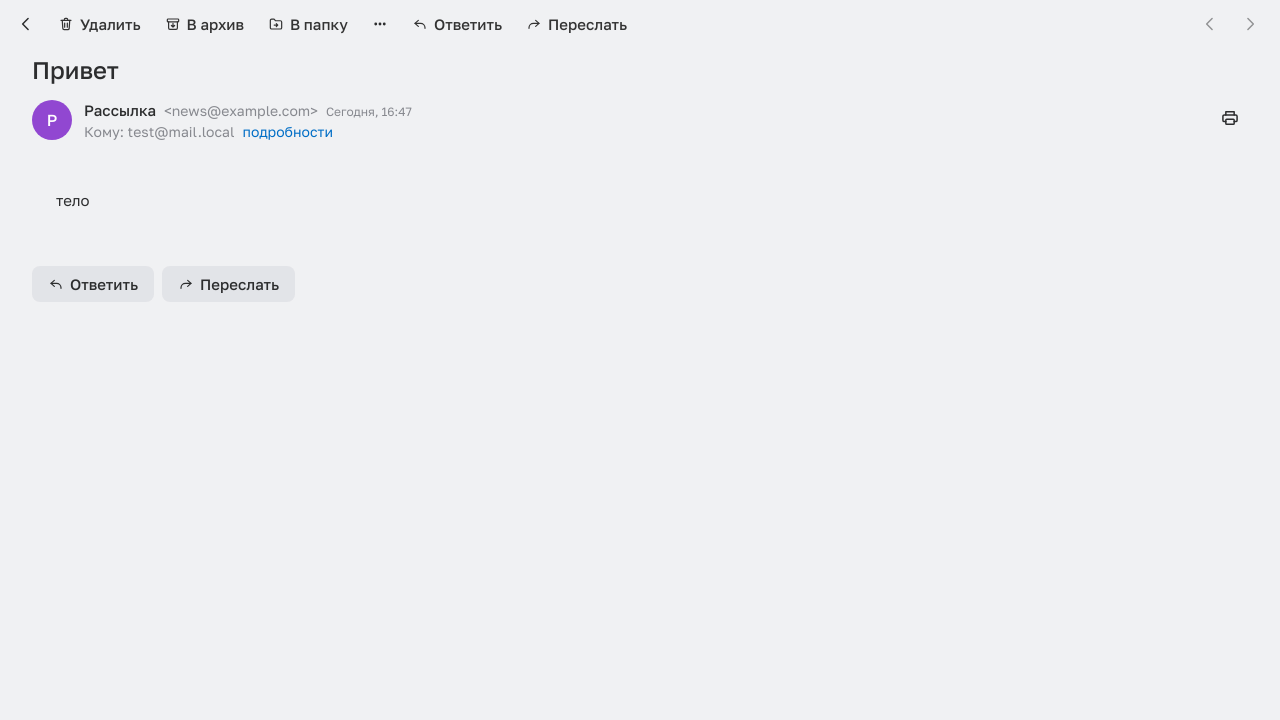
it: пункт меню и содержимое окна › пункт есть в меню «три точки» и открывает заголовки письма
Click the button named "Ещё действия". click: coordinates (380, 24)
box: 362,6 -> 398,42
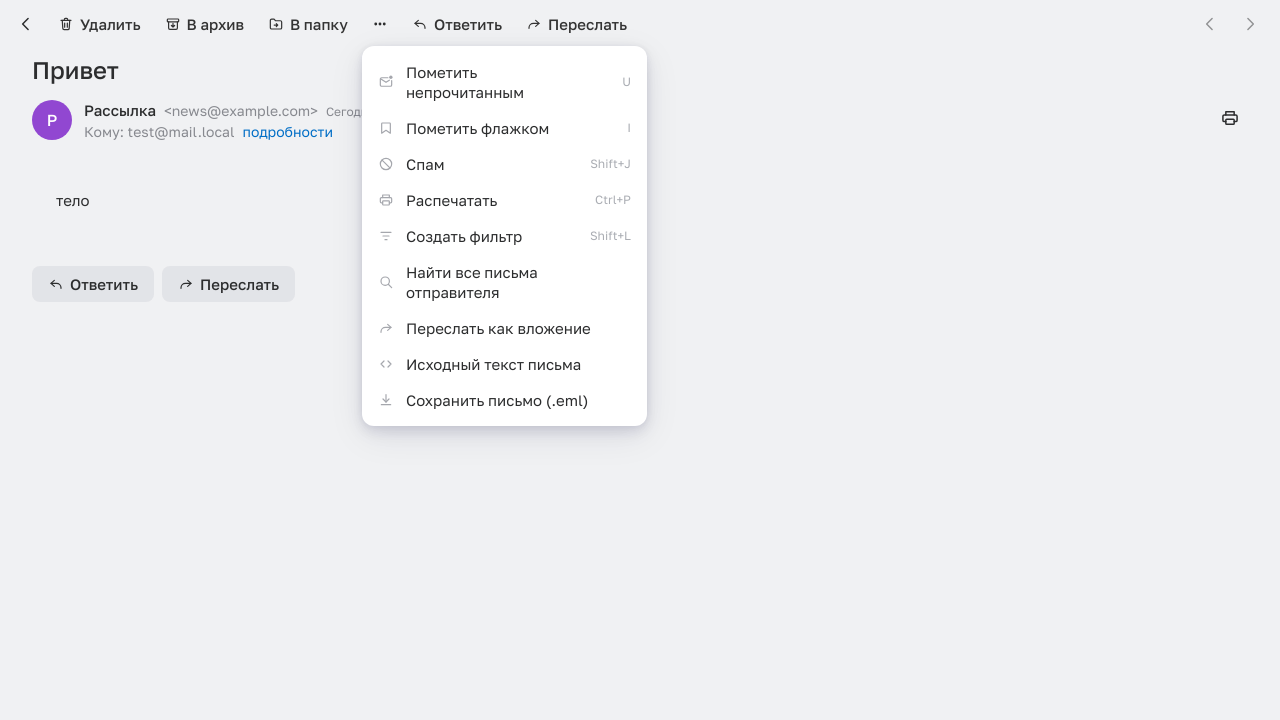
Click the menu item "Исходный текст письма". click: coordinates (504, 364)
box: 362,346 -> 647,382
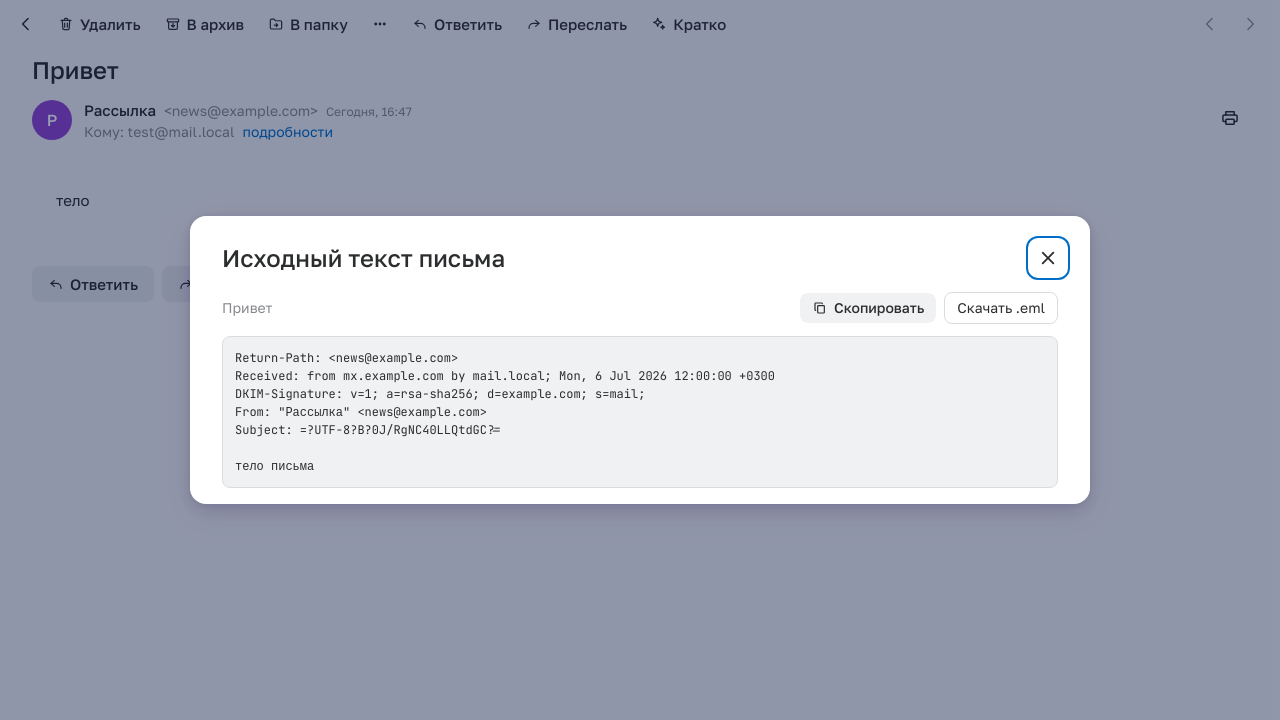
Result: the text with test id "message-source" shows "Received: from mx.example.com" at 235,350 -> 775,474
Result: the text with test id "message-source" shows "DKIM-Signature" at 235,350 -> 775,474
